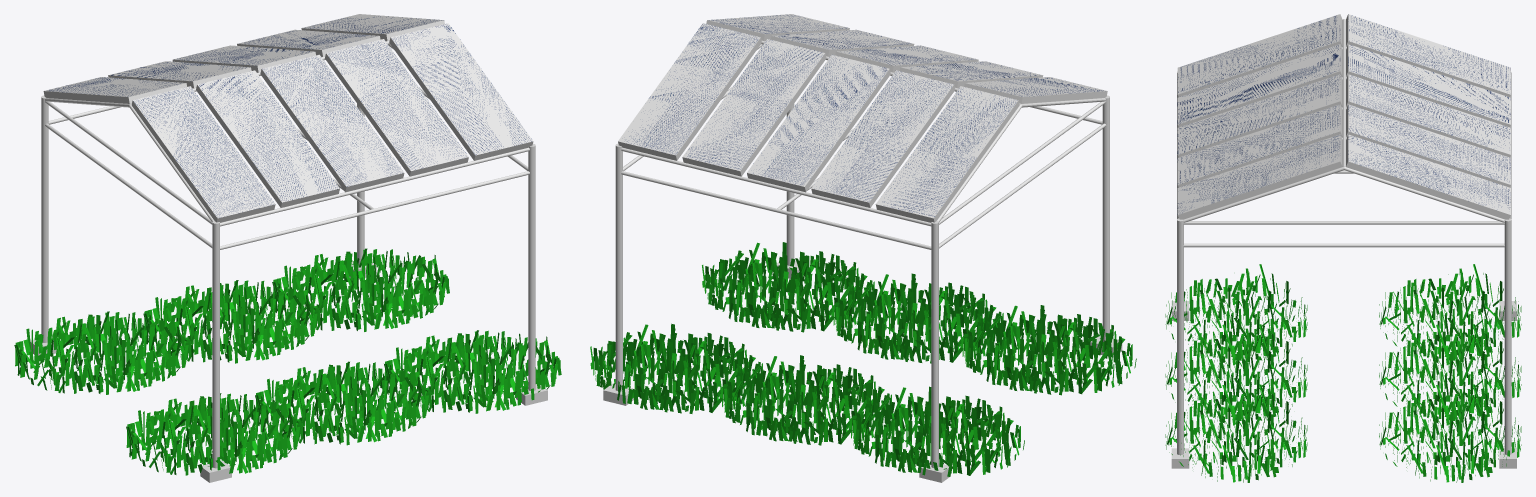
File: agiSolarGrass3.glb
3 renders of one model, left to right at view 1: azimuth 30°, elevation 25°; view 2: azimuth 150°, elevation 25°; view 3: azimuth 270°, elevation 25°, orthographic. The views are drawn at different scales.
Parts seen in each view (by area): view 1: Trava Kolosok.022, Trava Kolosok.004, Cube.009, Cube.014, Cube.015, Cube.008, Cube.001, Trava Kolosok.002, Trava Kolosok.003, Trava Kolosok.001, Trava Kolosok.005, Cube.007 (+11 smaller); view 2: Trava Kolosok.003, Trava Kolosok.001, Cube.003, Cube.006, Cube.005, Cube.004, Trava Kolosok.005, Cube.007, Trava Kolosok.022, Trava Kolosok.004, Trava Kolosok.002, Cube.001 (+12 smaller); view 3: Cube.008, Cube.004, Trava Kolosok.004, Trava Kolosok.001, Trava Kolosok.022, Trava Kolosok.003, Trava Kolosok.005, Trava Kolosok.002, Cube.009, Cube.014, Cube.001, Cube.015 (+11 smaller).
Boxes of the visible parts, x1=… form: Trava Kolosok.022: x1=14, y1=311, x2=191, y2=394; Trava Kolosok.004: x1=272, y1=248, x2=449, y2=331; Cube.009: x1=324, y1=39, x2=468, y2=176; Cube.014: x1=260, y1=54, x2=404, y2=192; Cube.015: x1=196, y1=70, x2=339, y2=207; Cube.008: x1=389, y1=23, x2=533, y2=160; Cube.001: x1=131, y1=86, x2=275, y2=222; Trava Kolosok.002: x1=255, y1=361, x2=431, y2=445; Trava Kolosok.003: x1=126, y1=393, x2=302, y2=475; Trava Kolosok.001: x1=384, y1=330, x2=561, y2=413; Trava Kolosok.005: x1=143, y1=280, x2=320, y2=363; Cube.007: x1=43, y1=77, x2=186, y2=103; Trava Kolosok.003: x1=959, y1=305, x2=1136, y2=395; Trava Kolosok.001: x1=702, y1=242, x2=878, y2=332; Cube.003: x1=811, y1=70, x2=955, y2=207; Cube.006: x1=682, y1=39, x2=826, y2=176; Cube.005: x1=747, y1=54, x2=890, y2=192; Cube.004: x1=618, y1=23, x2=761, y2=160; Trava Kolosok.005: x1=719, y1=355, x2=896, y2=445; Cube.007: x1=875, y1=86, x2=1019, y2=222; Trava Kolosok.022: x1=848, y1=386, x2=1024, y2=476; Trava Kolosok.004: x1=590, y1=323, x2=767, y2=413; Trava Kolosok.002: x1=830, y1=273, x2=1007, y2=363; Cube.001: x1=964, y1=77, x2=1107, y2=103; Cube.008: x1=1177, y1=134, x2=1342, y2=219; Cube.004: x1=1346, y1=134, x2=1510, y2=219; Trava Kolosok.004: x1=1379, y1=384, x2=1521, y2=482; Trava Kolosok.001: x1=1165, y1=384, x2=1307, y2=482; Trava Kolosok.022: x1=1379, y1=264, x2=1521, y2=362; Trava Kolosok.003: x1=1165, y1=264, x2=1307, y2=362; Trava Kolosok.005: x1=1379, y1=324, x2=1521, y2=422; Trava Kolosok.002: x1=1165, y1=324, x2=1307, y2=422; Cube.009: x1=1177, y1=104, x2=1342, y2=187; Cube.014: x1=1177, y1=74, x2=1342, y2=157; Cube.001: x1=1177, y1=14, x2=1342, y2=96; Cube.015: x1=1177, y1=44, x2=1342, y2=127.
Size of the model in its own units: 6.5 by 4.7 by 5.
Materials: 26 (10 with a texture image).
